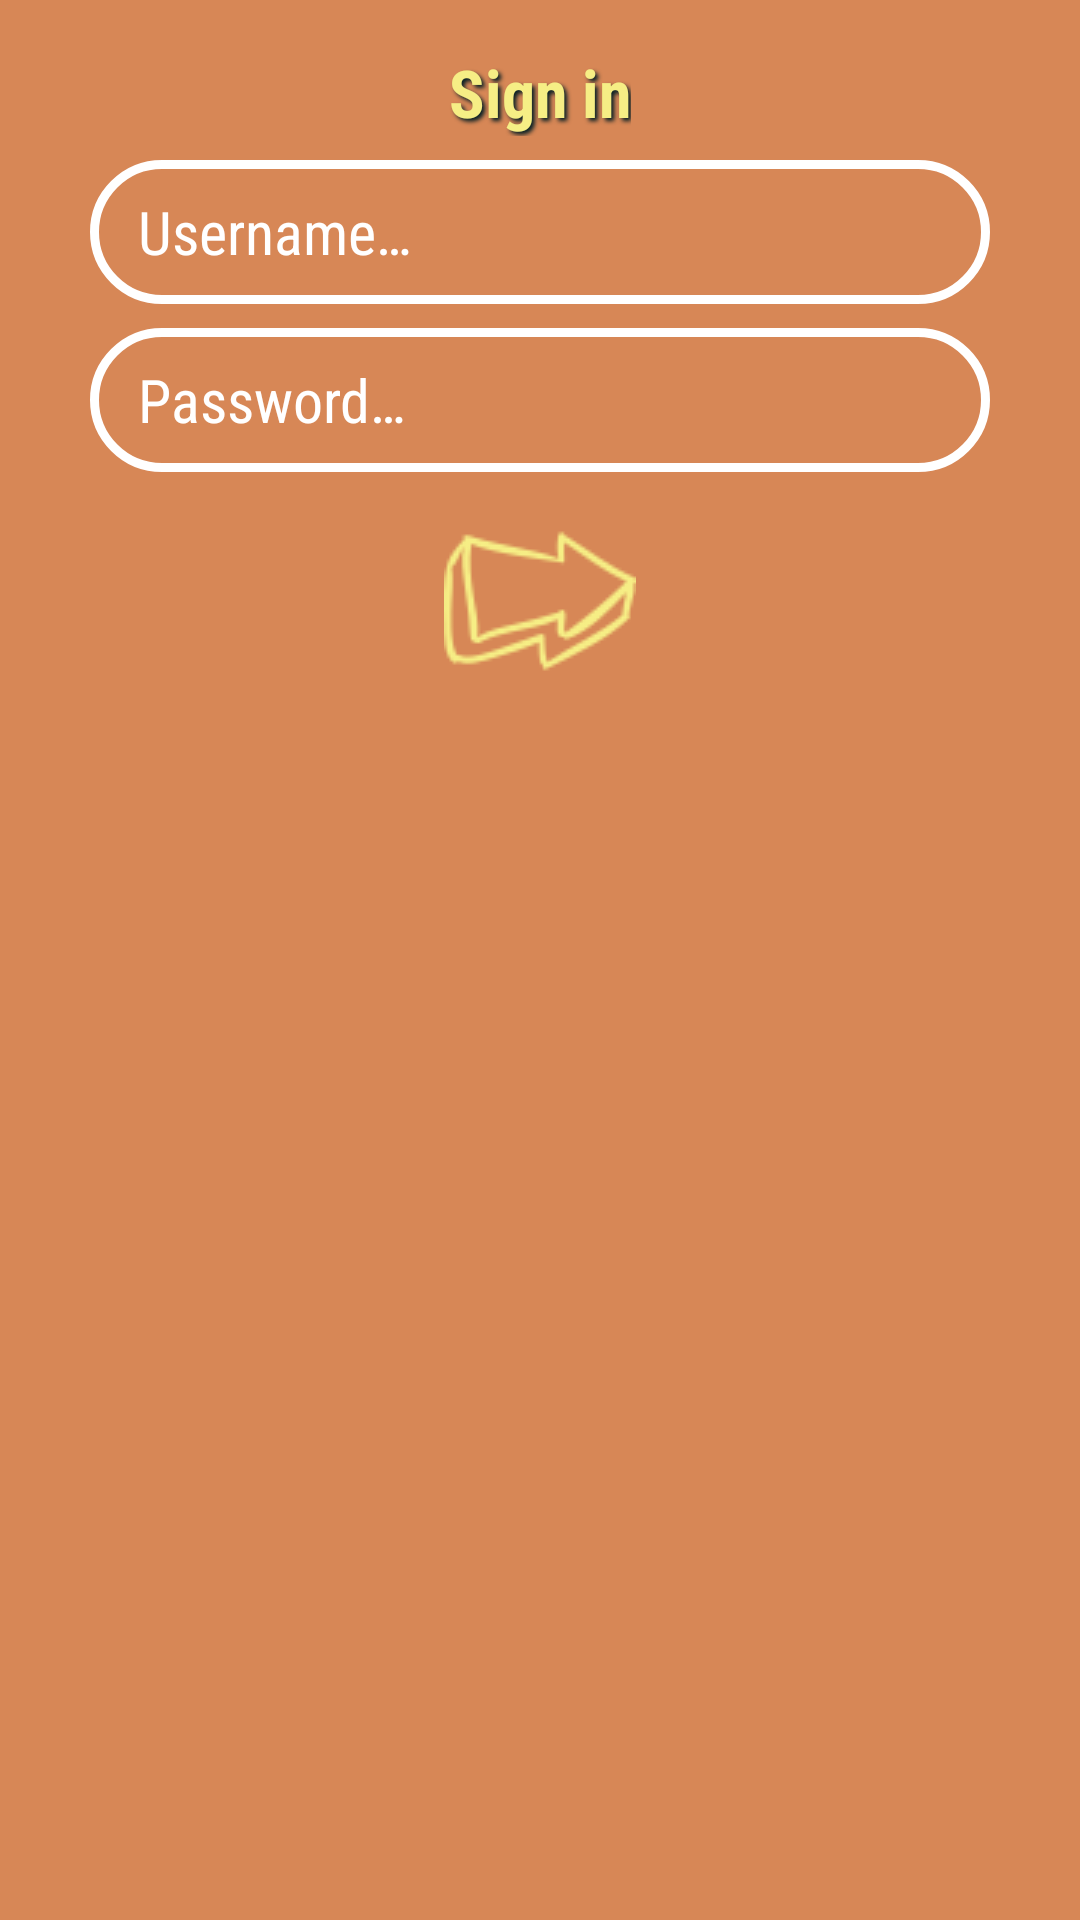

Named icons in this screenshot (1080px×1920px) and their bounding boxes, (left=x1, top=y1, right=x2, bottom=y2):
continue to home page: (left=444, top=532, right=636, bottom=670)
